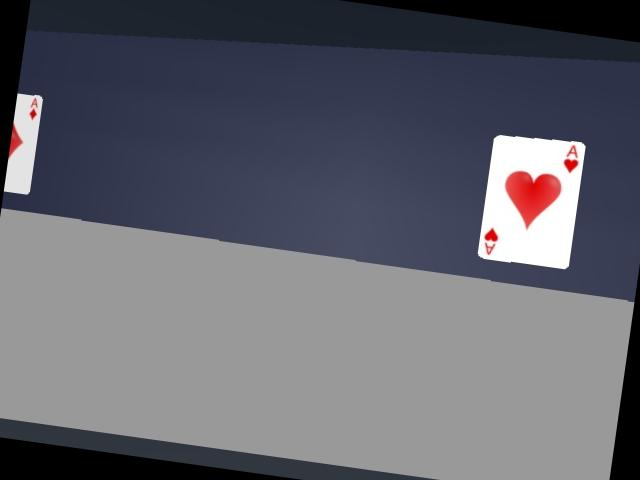diamond: (4, 94, 42, 194)
heart: (478, 135, 585, 268)
